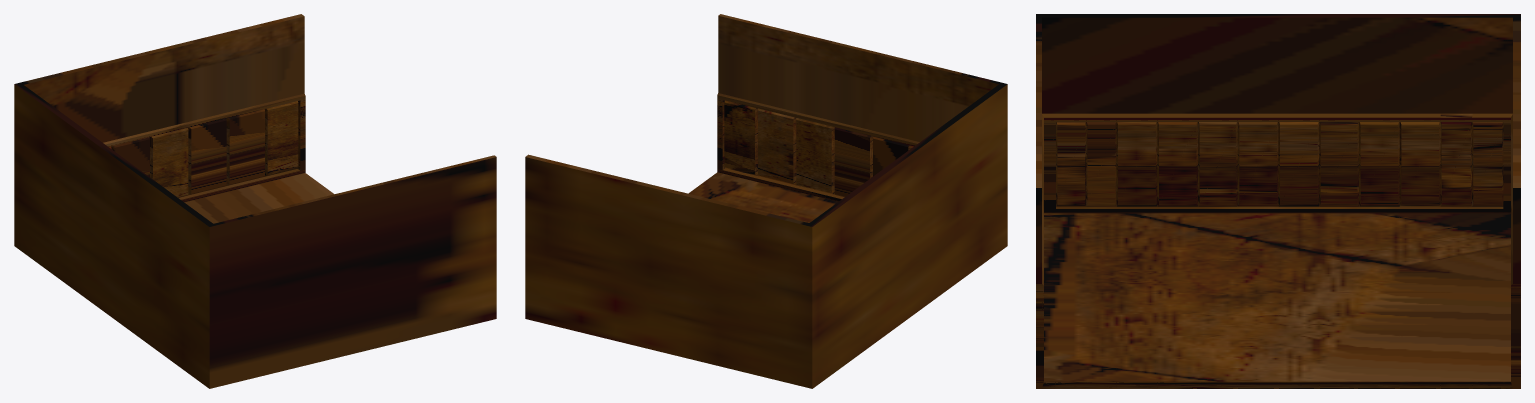
Rendered from patarn.001_doujou.fbx.
3 renders of one model, left to right at view 1: azimuth 30°, elevation 25°; view 2: azimuth 150°, elevation 25°; view 3: azimuth 270°, elevation 25°, orthographic. The views are drawn at different scales.
Visible parts, largest first — view 1: 立方体.104; view 2: 立方体.104; view 3: 立方体.104.
Part boxes in pixels (x1=…): 立方体.104: x1=14, y1=14, x2=496, y2=388; 立方体.104: x1=525, y1=14, x2=1007, y2=388; 立方体.104: x1=1036, y1=14, x2=1520, y2=388.
Bounding box in the file's own units: 782 × 421 × 921.
